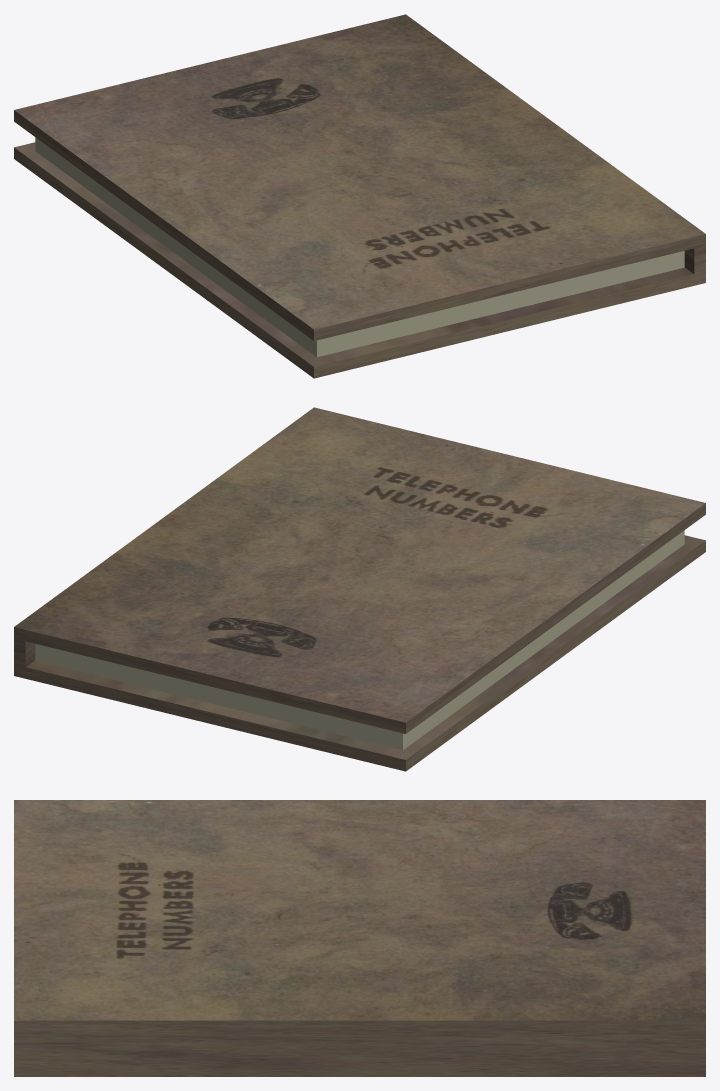
File: phonebook.fbx
3 renders of one model, top to bottom at view 1: azimuth 30°, elevation 25°; view 2: azimuth 150°, elevation 25°; view 3: azimuth 270°, elevation 25°, orthographic. The views are drawn at different scales.
Parts seen in each view (by area): view 1: phonebook; view 2: phonebook; view 3: phonebook.
Boxes of the visible parts, x1,y1,x2,y2 form: phonebook: (14,14,705,378); phonebook: (14,407,705,771); phonebook: (14,800,705,1076).
Size of the model in its own units: 0.1364 by 0.1809 by 0.0163.
Materials: 2 (1 with a texture image).
